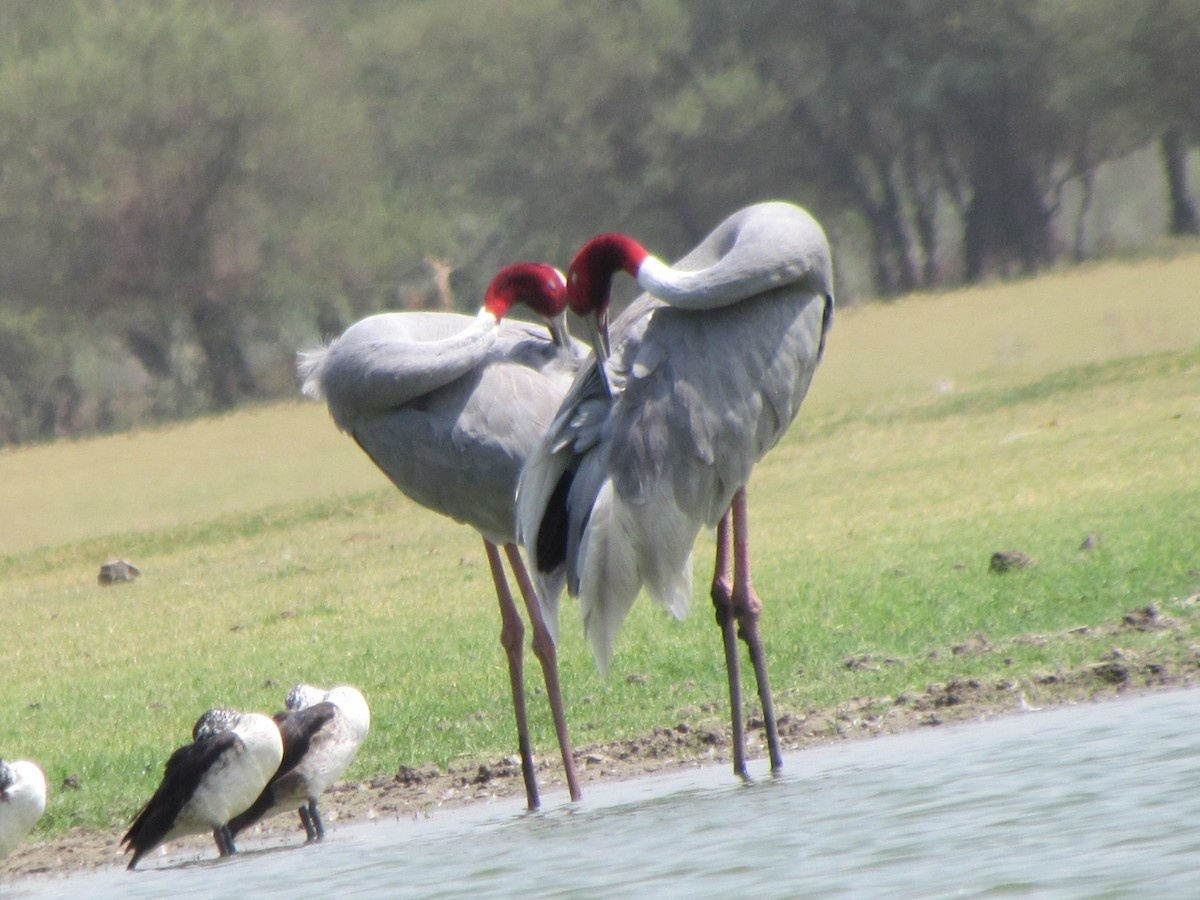crane: (569, 220, 837, 791), (334, 246, 579, 802)
